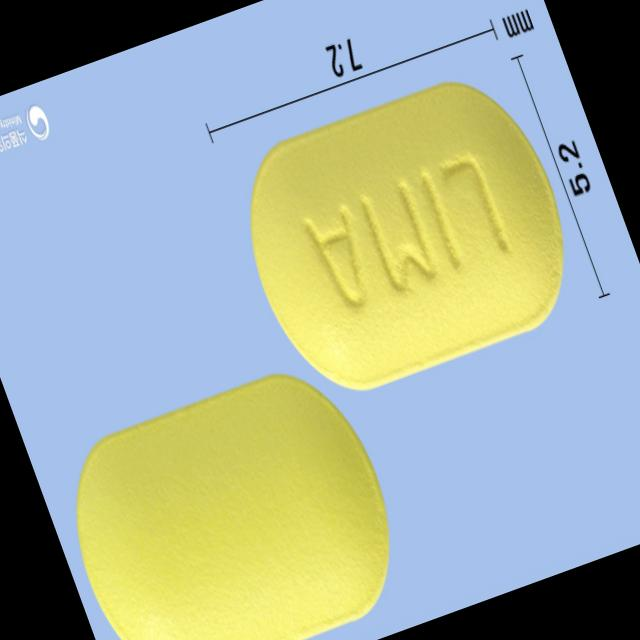Liamclo -250mg: (215, 59, 594, 414), (45, 354, 420, 640)
